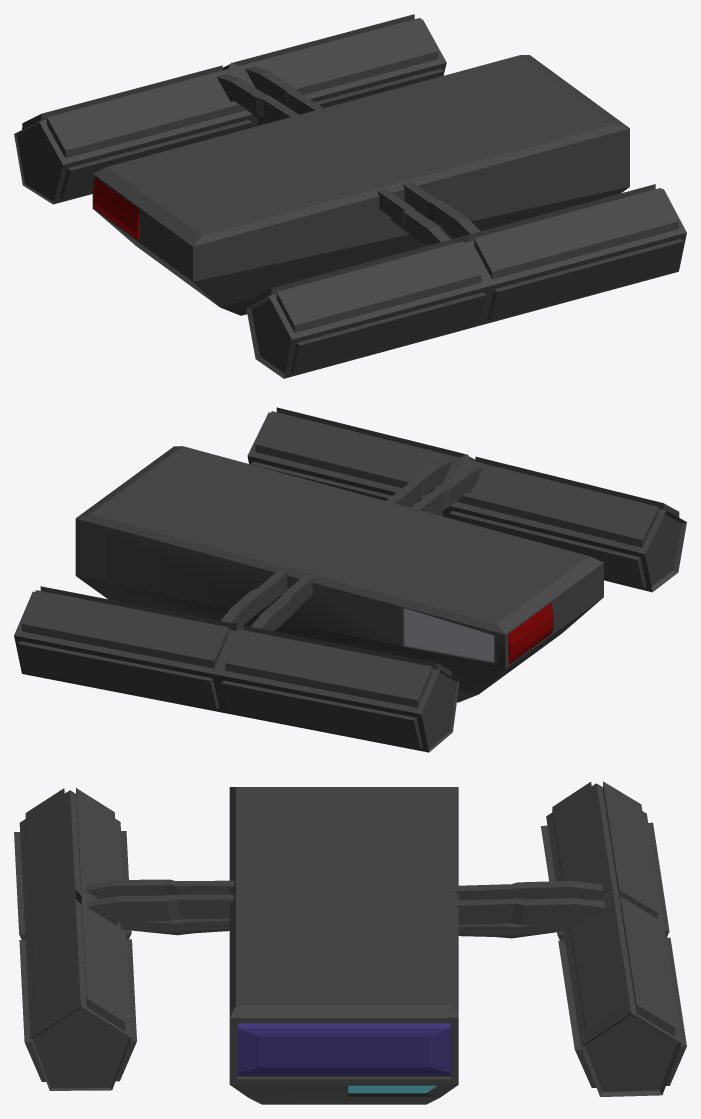
File: Platform_Floating_Two_Retexture.fbx
3 views of the same model, one above another, from view 1: azimuth 30°, elevation 25°; view 2: azimuth 150°, elevation 25°; view 3: azimuth 270°, elevation 25° (orthographic). The views are drawn at different scales.
Parts seen in each view (by area): view 1: Flying_Platform_2_Main; view 2: Flying_Platform_2_Main; view 3: Flying_Platform_2_Main.
Boxes of the visible parts, x1,y1,x2,y2 form: Flying_Platform_2_Main: (14,14,686,378); Flying_Platform_2_Main: (14,407,686,752); Flying_Platform_2_Main: (14,781,686,1104).
Size of the model in its own units: 1326 by 321 by 1535.
